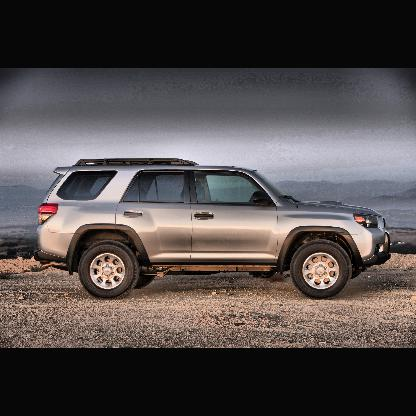Toyota 4Runner SUV 2012: (34, 157, 392, 301)
